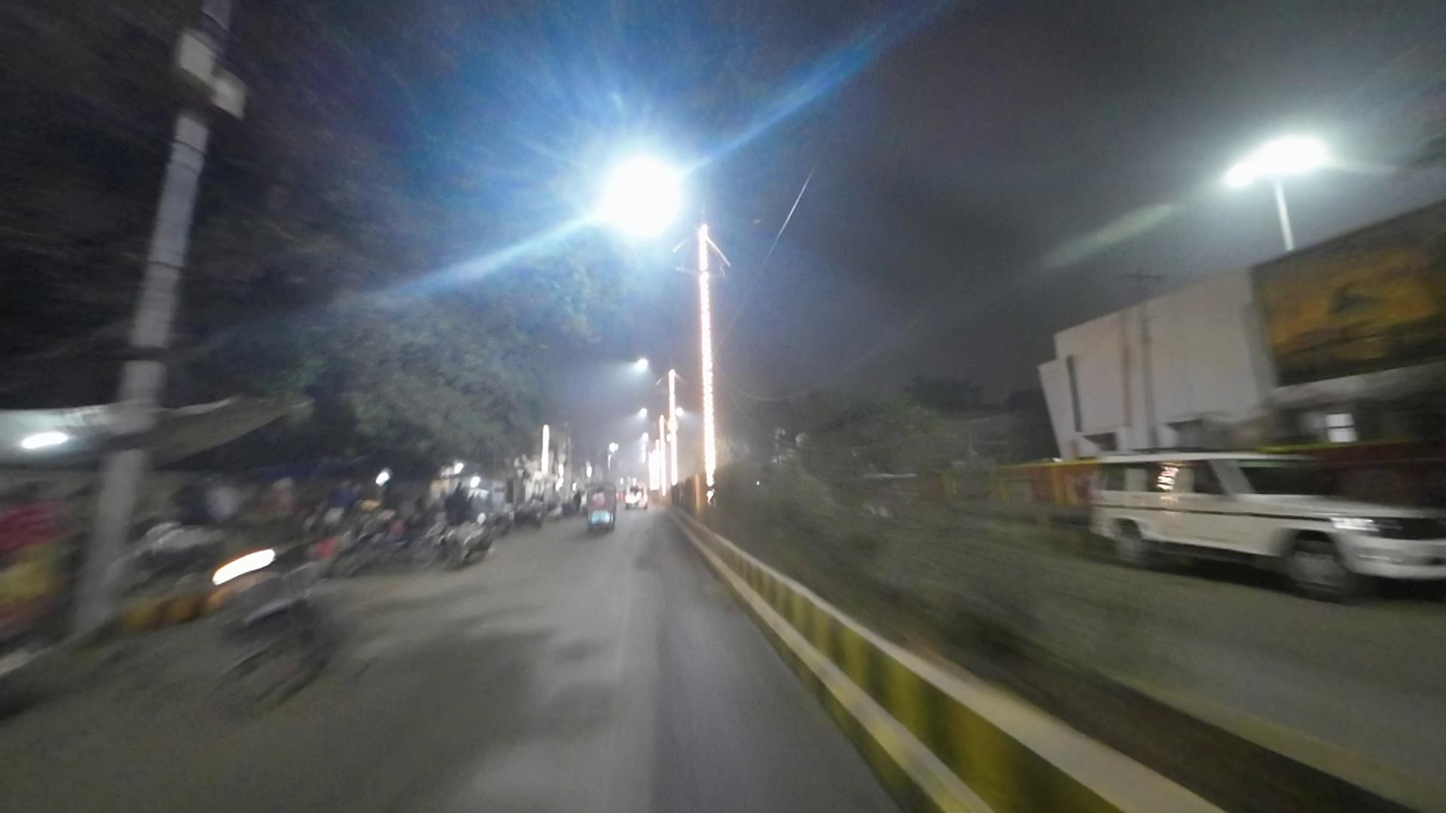streetlight: (716, 216, 762, 230)
